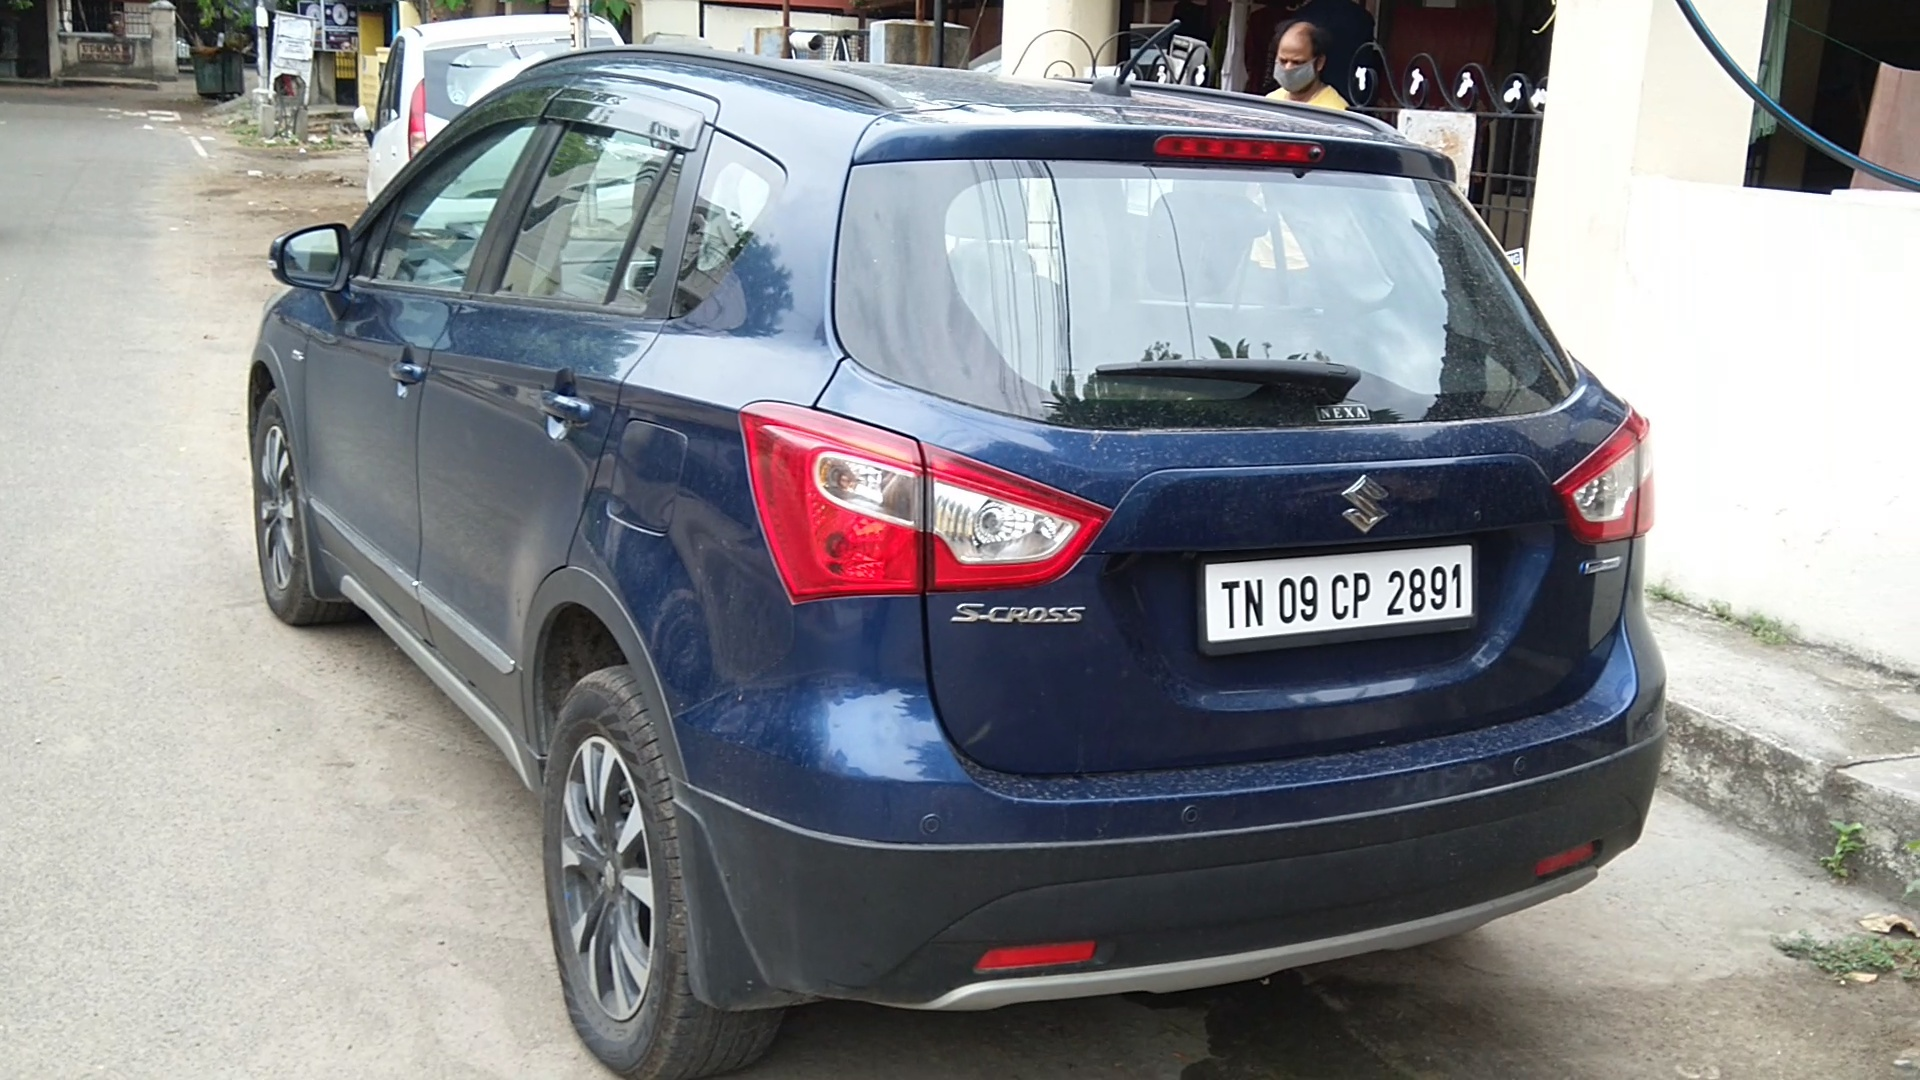alloy_wheel: (558, 661, 711, 1077), (253, 384, 309, 622)
rear_camera: (1303, 135, 1335, 166)
shvs: (1576, 546, 1626, 589)
